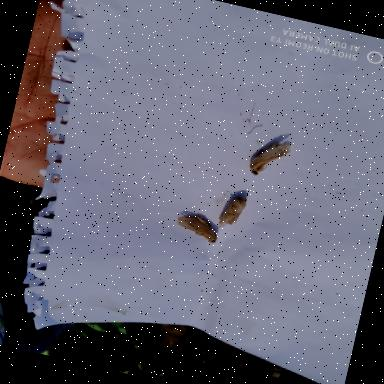pbw: (170, 208, 228, 252), (242, 134, 286, 186), (207, 190, 254, 236)
